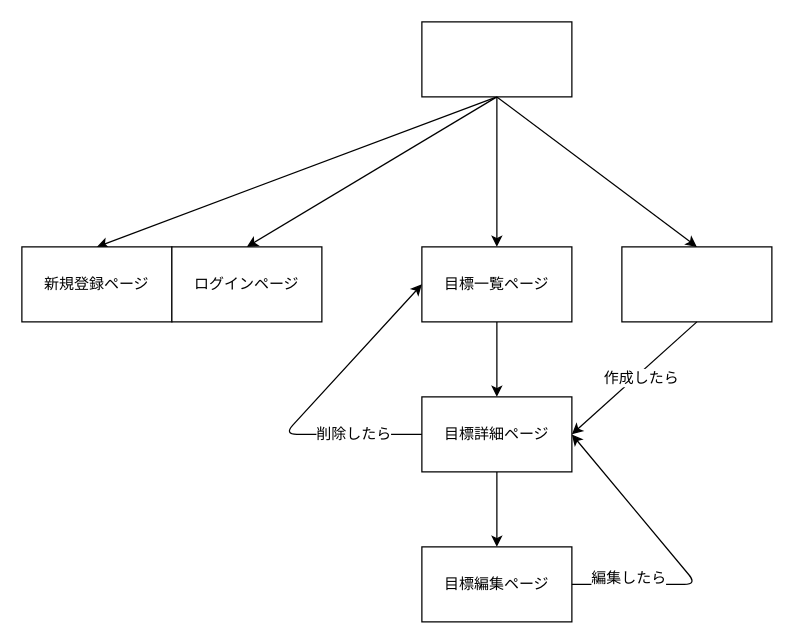
Some shapes in this 794 by 644 pixel diagram are drawn without their labels. Each missing label, with the centre of its shape:
ホームページ: (x=496, y=59)
目標作成ページ: (x=696, y=284)
